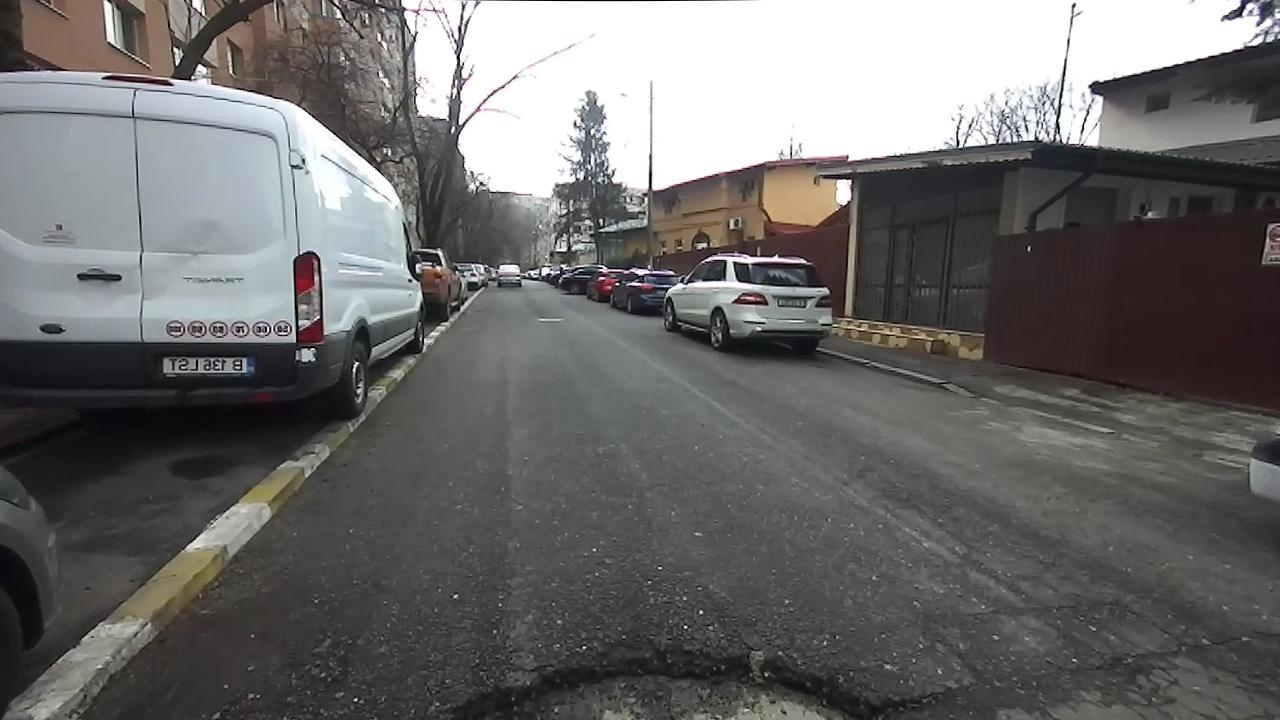pothole: (398, 631, 951, 718)
